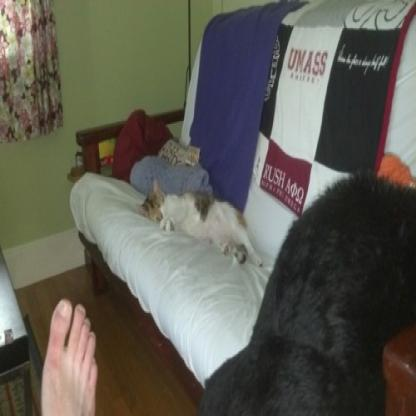Target: (139, 172, 267, 277)
